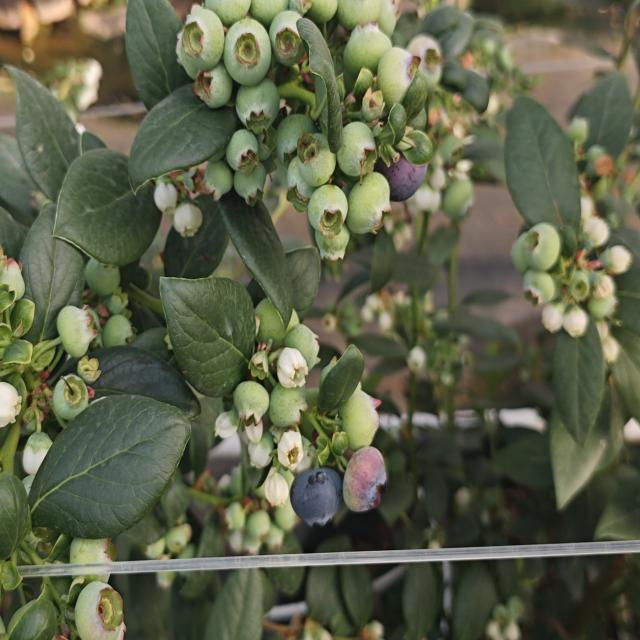ripe: (284, 462, 350, 530), (384, 144, 431, 208)
